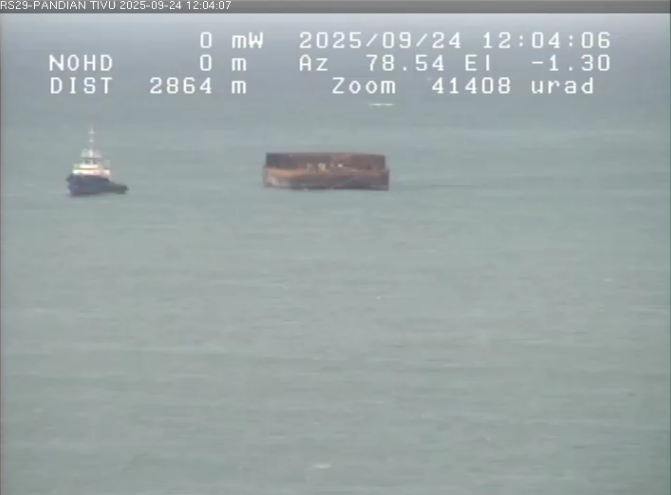BARGE: (212, 114, 414, 217)
OFFSHORE_SUPPLY_VESSEL: (43, 112, 142, 210)
TOWING: (19, 66, 532, 269)
